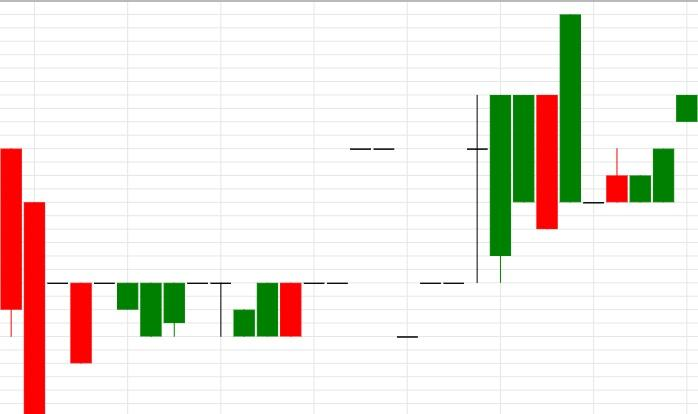bullish_engulfing_rise: (0, 148, 303, 414)
